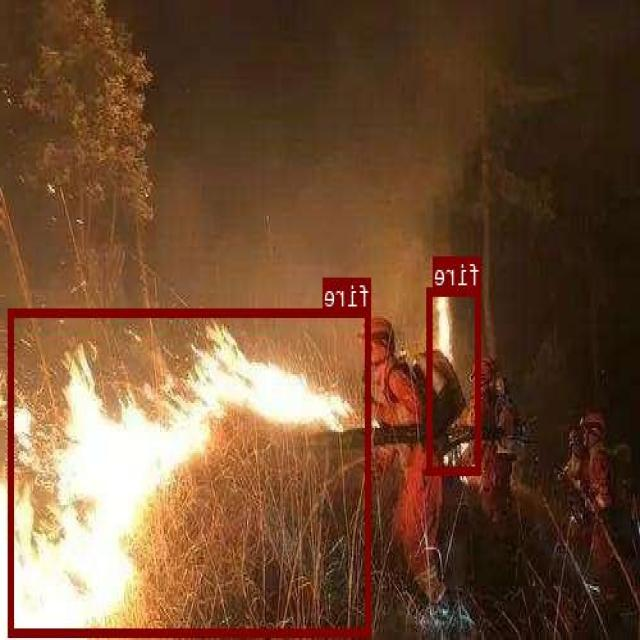fire: (10, 308, 372, 636), (428, 286, 482, 472)
